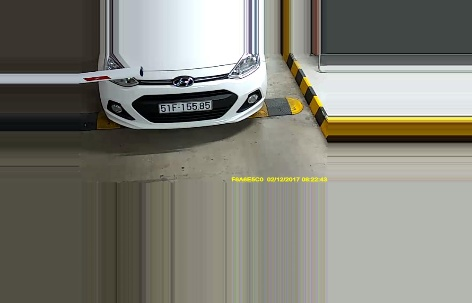plate: (156, 97, 213, 116)
